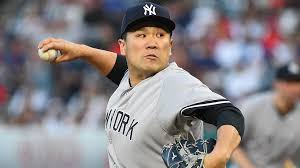baseball: (37, 38, 58, 62)
baseball player: (38, 3, 247, 167)
